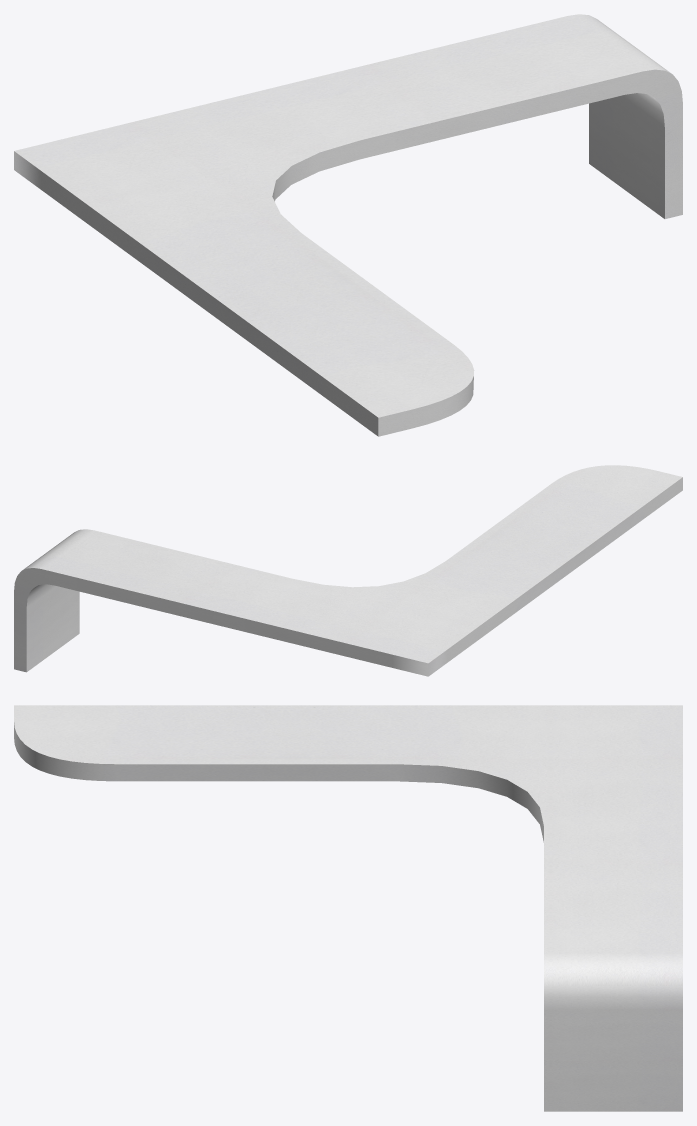
The model's file is StudyTable.fbx.
The picture shows the model from 3 angles, top to bottom: view 1: azimuth 30°, elevation 25°; view 2: azimuth 150°, elevation 25°; view 3: azimuth 270°, elevation 25°; orthographic projection. The views are drawn at different scales.
Parts seen in each view (by area): view 1: study_table; view 2: study_table; view 3: study_table.
Boxes of the visible parts, box(x1,y1,x2,y2) form: study_table: box(14, 14, 682, 436); study_table: box(14, 465, 682, 676); study_table: box(14, 705, 682, 1111).
Bounding box in the file's own units: 129 × 137 × 31.83.
1 material, 1 textured.
